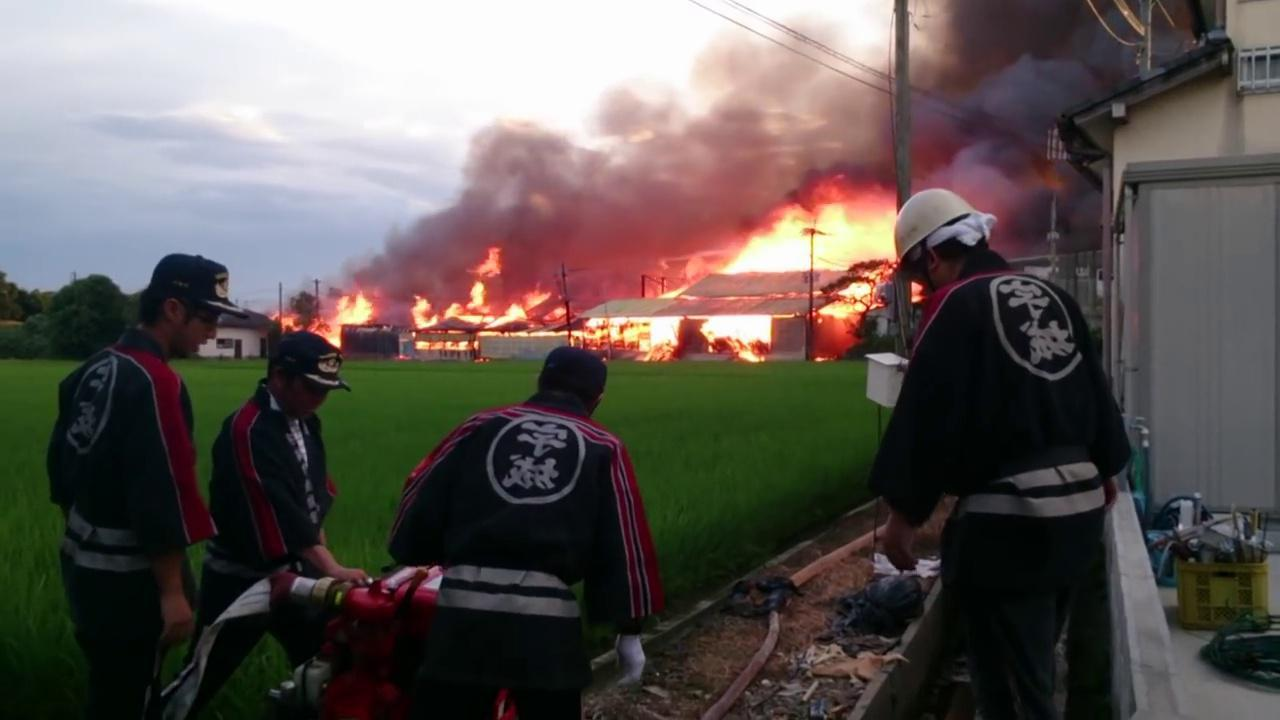Fire: (712, 211, 898, 318), (412, 251, 577, 349), (282, 293, 372, 345), (578, 320, 686, 360), (691, 315, 772, 362), (651, 255, 707, 301)
